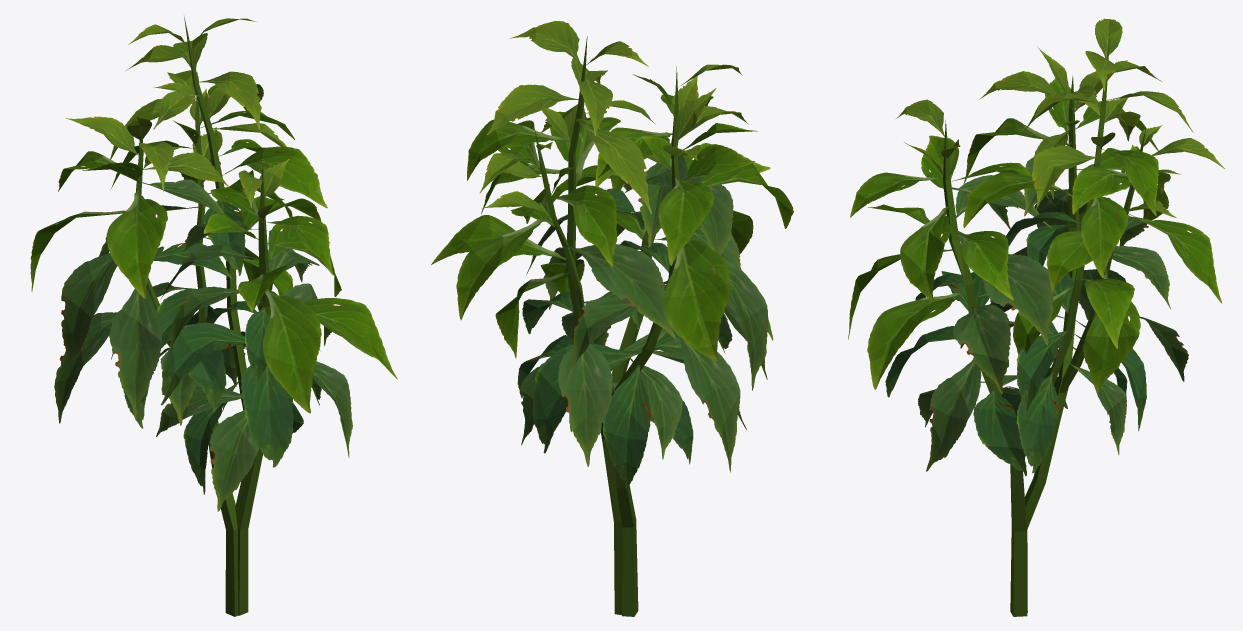
Rendered from P_Herb_00357.obj.
3 views of the same model, side by side, from view 1: azimuth 30°, elevation 25°; view 2: azimuth 150°, elevation 25°; view 3: azimuth 270°, elevation 25° (orthographic). The views are drawn at different scales.
Bounding box in the file's own units: 0.6559 × 1.18 × 0.7263.
Materials: 1 (1 with a texture image).
